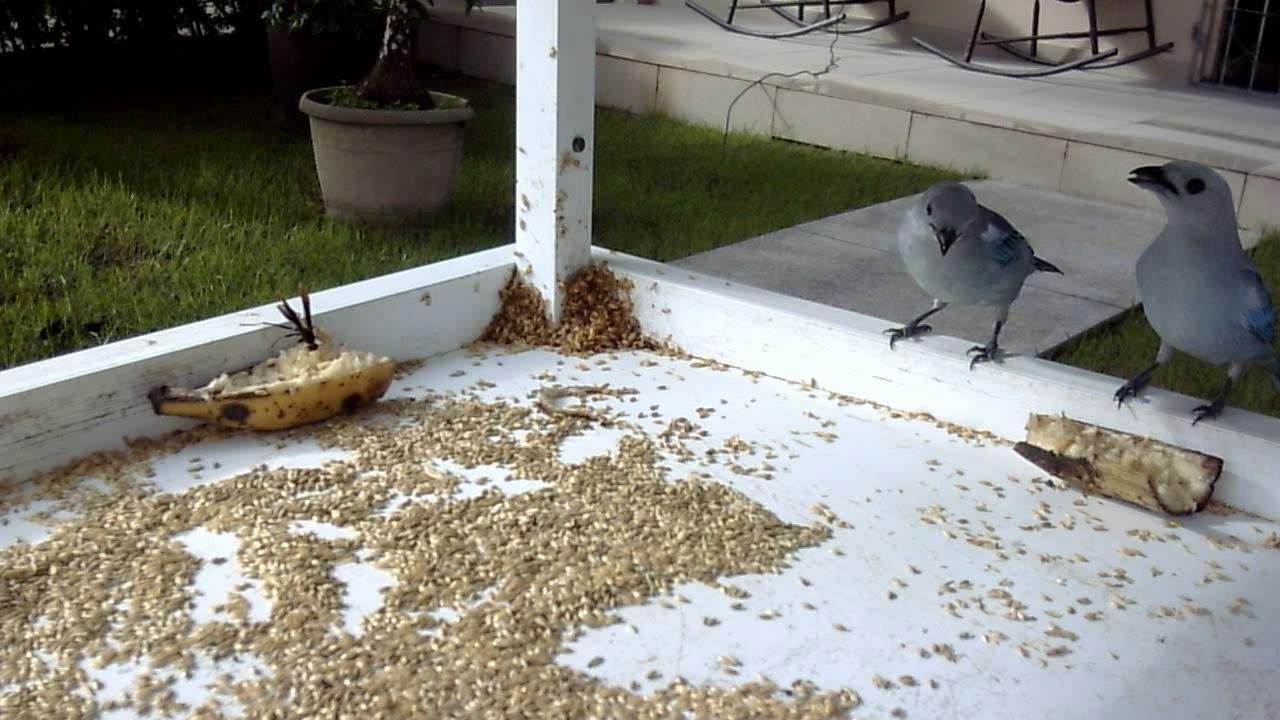sanhaco_da_amazonia: (1101, 159, 1276, 437), (866, 174, 1068, 379)
